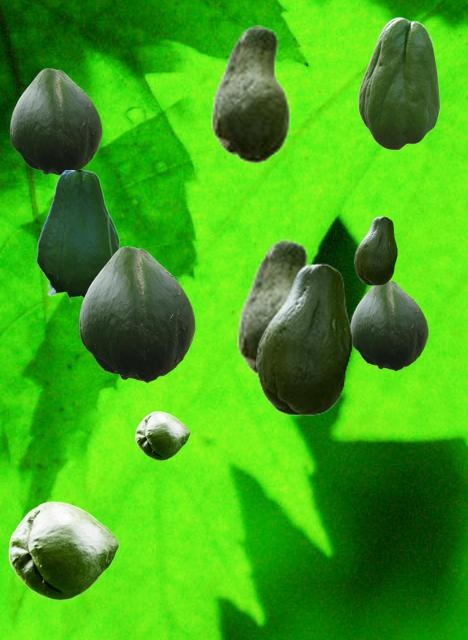sayote: (79, 246, 194, 382), (256, 263, 351, 414), (36, 170, 120, 302), (8, 501, 118, 599), (211, 25, 289, 163), (358, 17, 439, 149), (237, 239, 312, 379), (10, 68, 101, 175), (350, 280, 427, 370), (354, 216, 396, 284), (135, 411, 189, 459)
